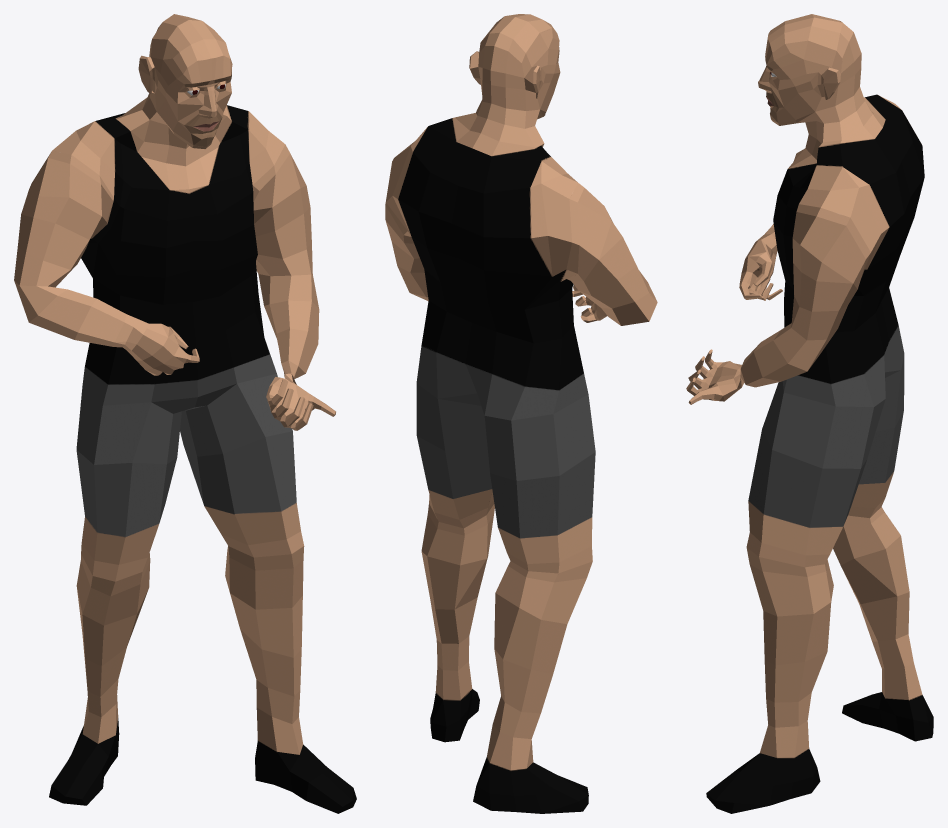
File: PlayerIdle(2).obj
3 renders of one model, left to right at view 1: azimuth 30°, elevation 25°; view 2: azimuth 150°, elevation 25°; view 3: azimuth 270°, elevation 25°, orthographic. The views are drawn at different scales.
Parts seen in each view (by area): view 1: Plane002; view 2: Plane002; view 3: Plane002.
Boxes of the visible parts, <box> form: Plane002: <box>14,14,356,813</box>; Plane002: <box>385,14,657,813</box>; Plane002: <box>686,14,933,813</box>.
Bounding box in the file's own units: 678 × 1806 × 548.
